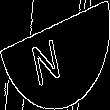N_N: (37, 25, 73, 85)
